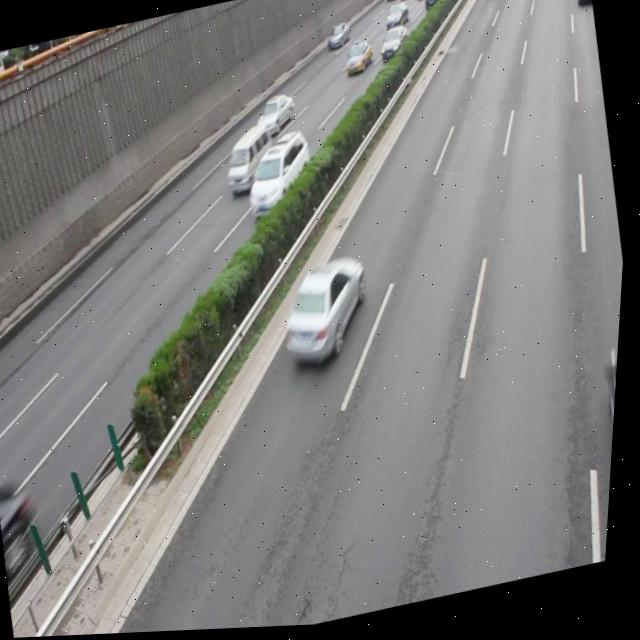car: (274, 252, 380, 374), (598, 357, 622, 524), (252, 92, 298, 136)
truck: (241, 131, 321, 222), (220, 122, 282, 198)
